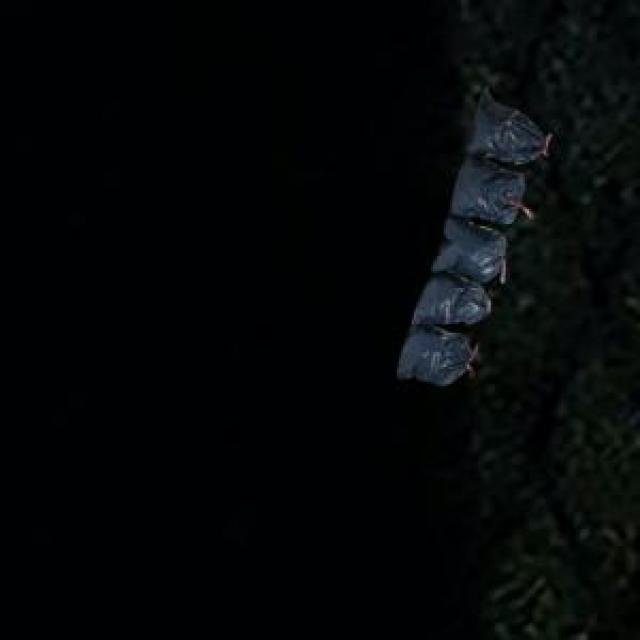Vinyl: (398, 94, 550, 386)
